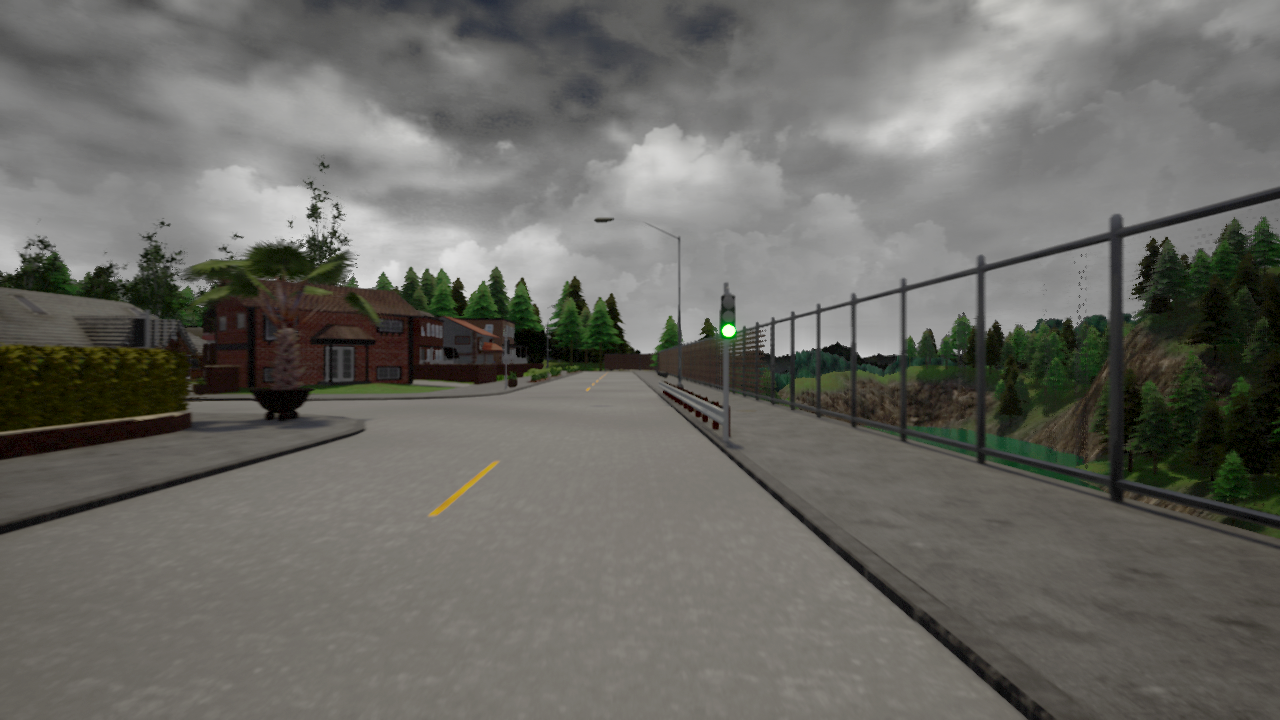green: (719, 294, 737, 340)
